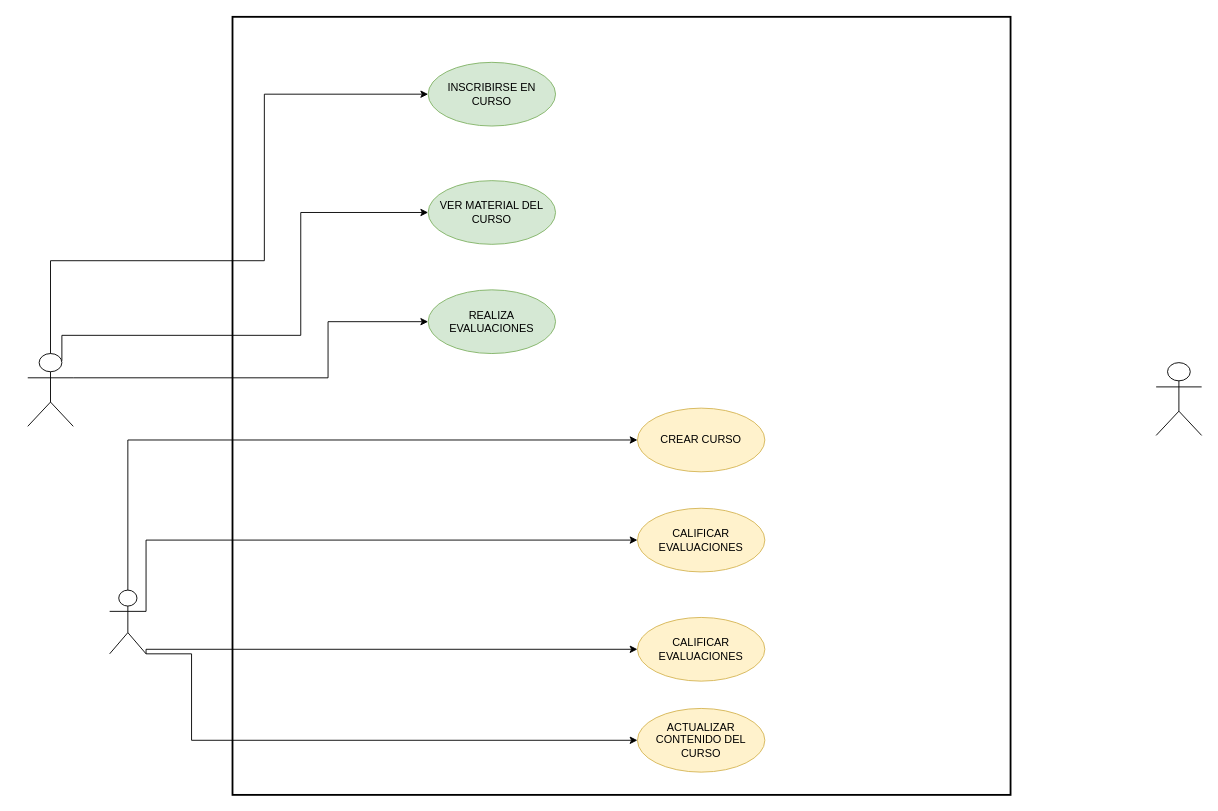
Image size: 1218x811. Some labels were removed from this diagram. Here are the shapes that lost their labels. From the top down, the centre of each, then its label:
At (50,389): "ESTUDIANTE".
At (1178,398): "SISTEMA".
At (127,621): "PROFESOR".
